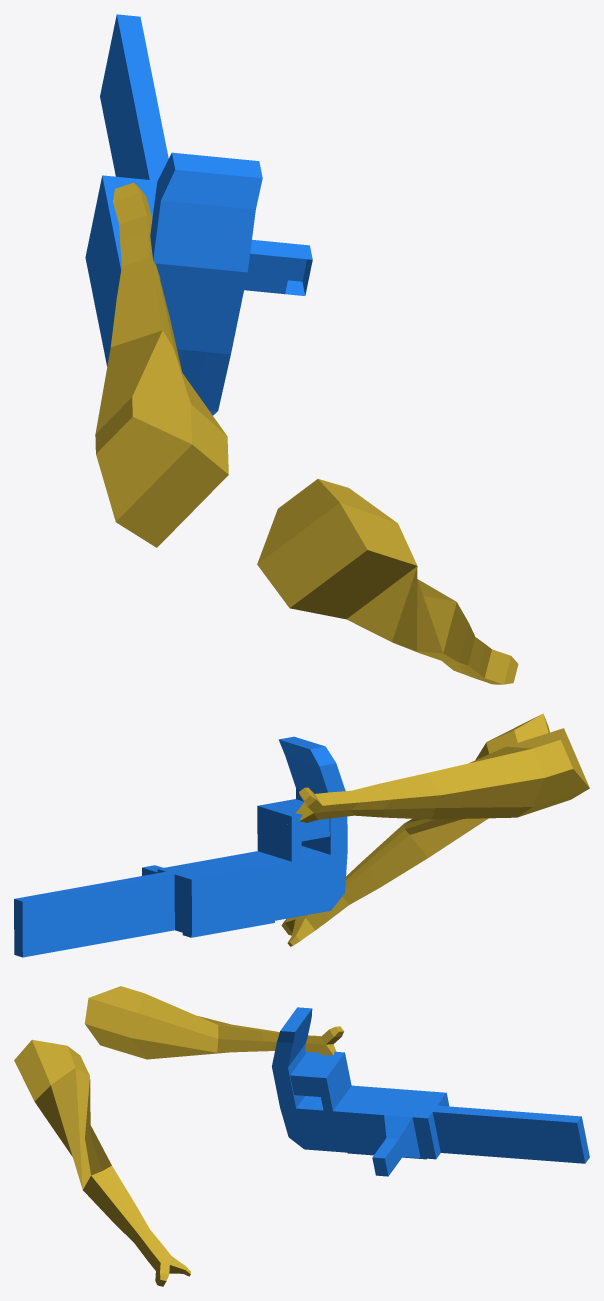
File: arme_000255.obj
3 renders of one model, top to bottom at view 1: azimuth 30°, elevation 25°; view 2: azimuth 150°, elevation 25°; view 3: azimuth 270°, elevation 25°, orthographic. The views are drawn at different scales.
Visible parts, largest first — view 1: Cube.048_Cube.024, Cube.046_Cube.010; view 2: Cube.046_Cube.010, Cube.048_Cube.024; view 3: Cube.046_Cube.010, Cube.048_Cube.024.
Boxes of the visible parts, <box> form: Cube.048_Cube.024: <box>95,182,518,684</box>; Cube.046_Cube.010: <box>85,14,312,415</box>; Cube.046_Cube.010: <box>14,736,347,957</box>; Cube.048_Cube.024: <box>281,713,589,946</box>; Cube.046_Cube.010: <box>272,1007,589,1176</box>; Cube.048_Cube.024: <box>14,986,343,1286</box>.
Bounding box in the file's own units: 1306 × 1171 × 2620.
